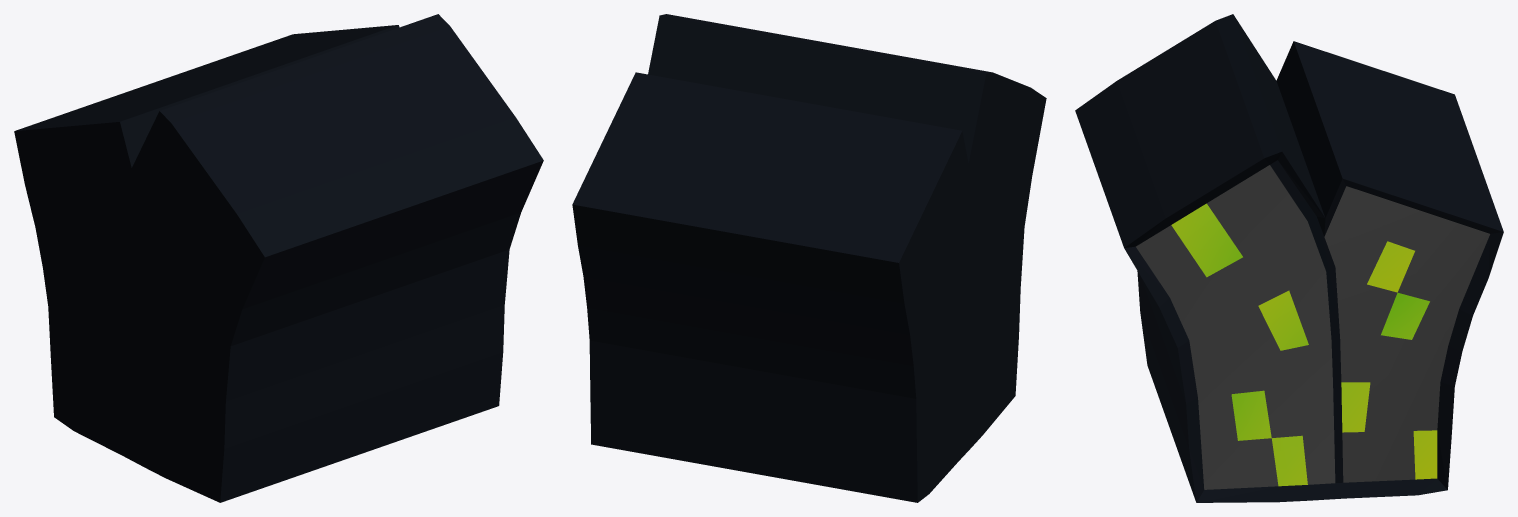
The model's file is CITY PIN.fbx.
3 renders of one model, left to right at view 1: azimuth 30°, elevation 25°; view 2: azimuth 150°, elevation 25°; view 3: azimuth 270°, elevation 25°, orthographic. The views are drawn at different scales.
Parts seen in each view (by area): view 1: CITY_PIN; view 2: CITY_PIN; view 3: CITY_PIN.
Part boxes in pixels (box(x1,y1,x2,y2)): CITY_PIN: box(14, 14, 543, 502); CITY_PIN: box(572, 14, 1046, 502); CITY_PIN: box(1075, 14, 1503, 502).
Size of the model in its own units: 6.72 by 6.73 by 7.39.
